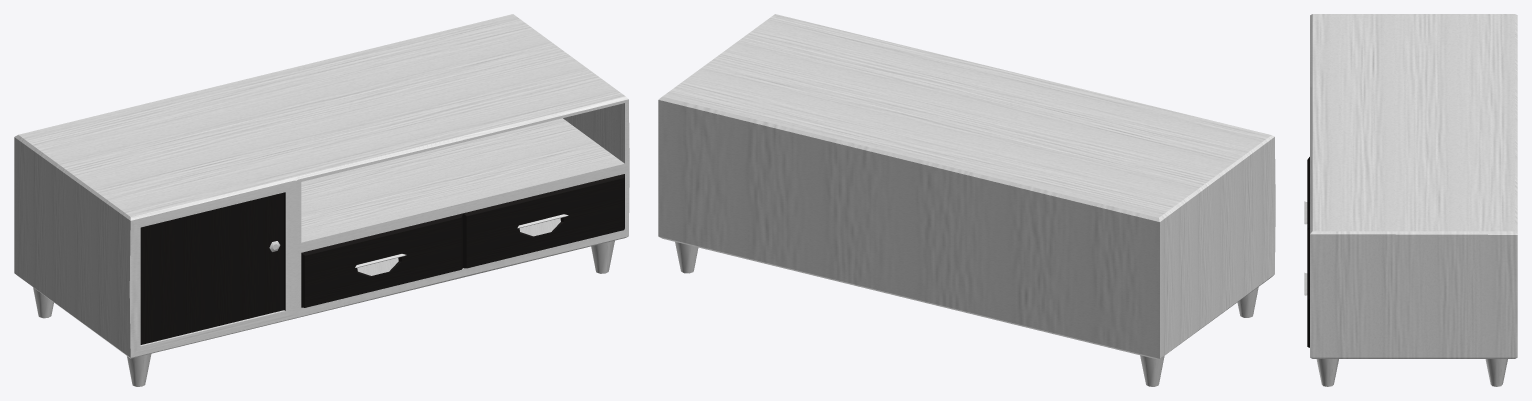
Rendered from Television_Stand_08.FBX.
The picture shows the model from 3 angles, left to right: view 1: azimuth 30°, elevation 25°; view 2: azimuth 150°, elevation 25°; view 3: azimuth 270°, elevation 25°; orthographic projection. The views are drawn at different scales.
Visible parts, largest first — view 1: Television_Stand; view 2: Television_Stand; view 3: Television_Stand.
Part boxes in pixels (<box>): Television_Stand: <box>14,14,629,386</box>; Television_Stand: <box>658,14,1275,386</box>; Television_Stand: <box>1304,14,1517,386</box>.
Bounding box in the file's own units: 425 × 144 × 175.
